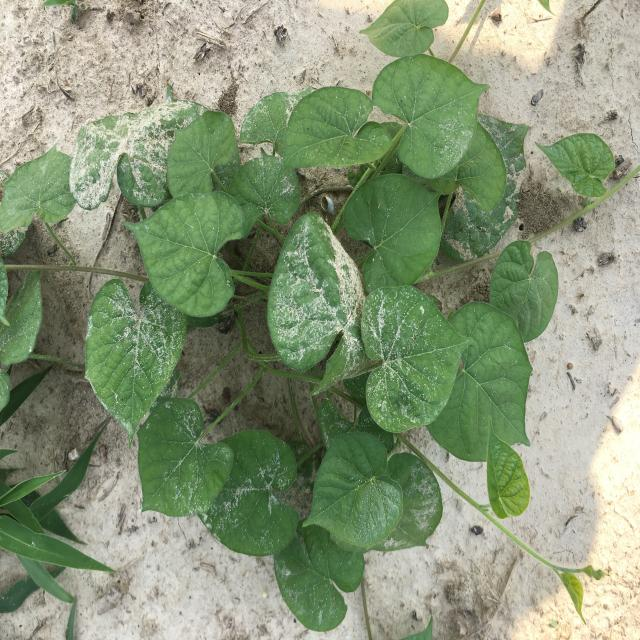MorningGlory: (0, 1, 639, 640)
